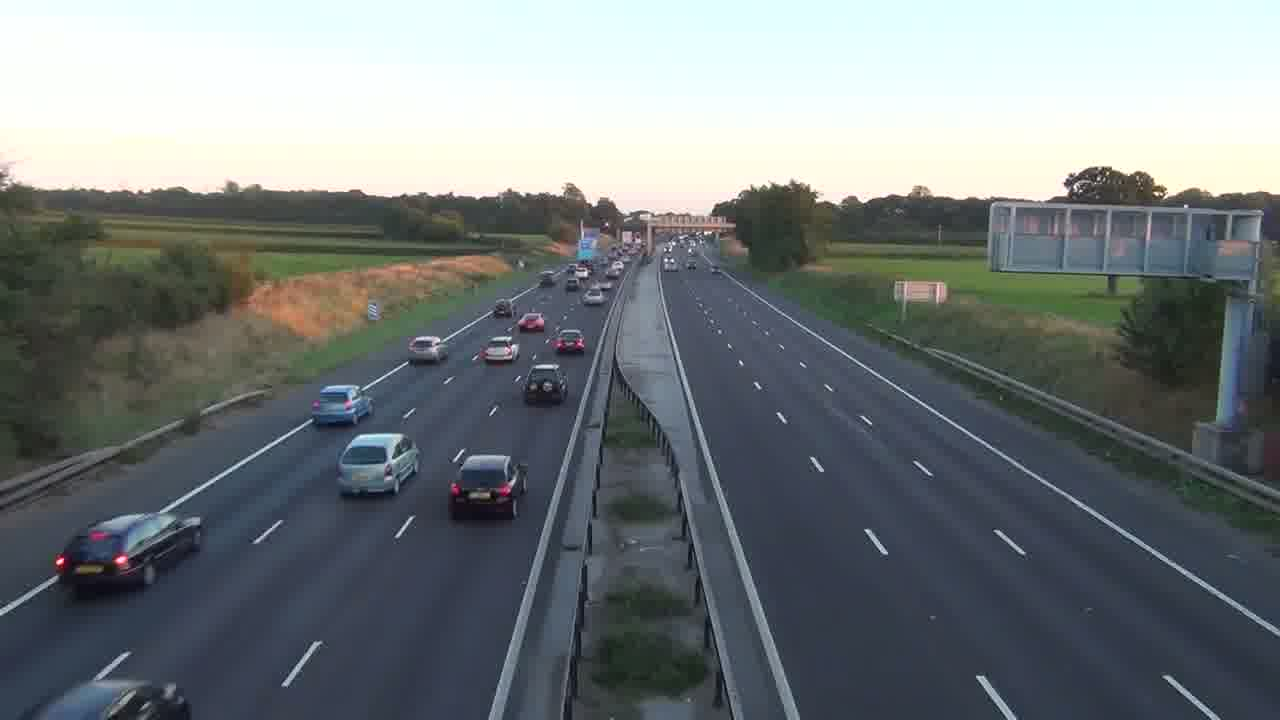car: (448, 451, 529, 520), (336, 432, 419, 496), (310, 383, 375, 426), (524, 363, 568, 405), (407, 335, 447, 365), (480, 335, 519, 363), (553, 327, 585, 355), (516, 312, 545, 333)
truck: (53, 510, 205, 595)
